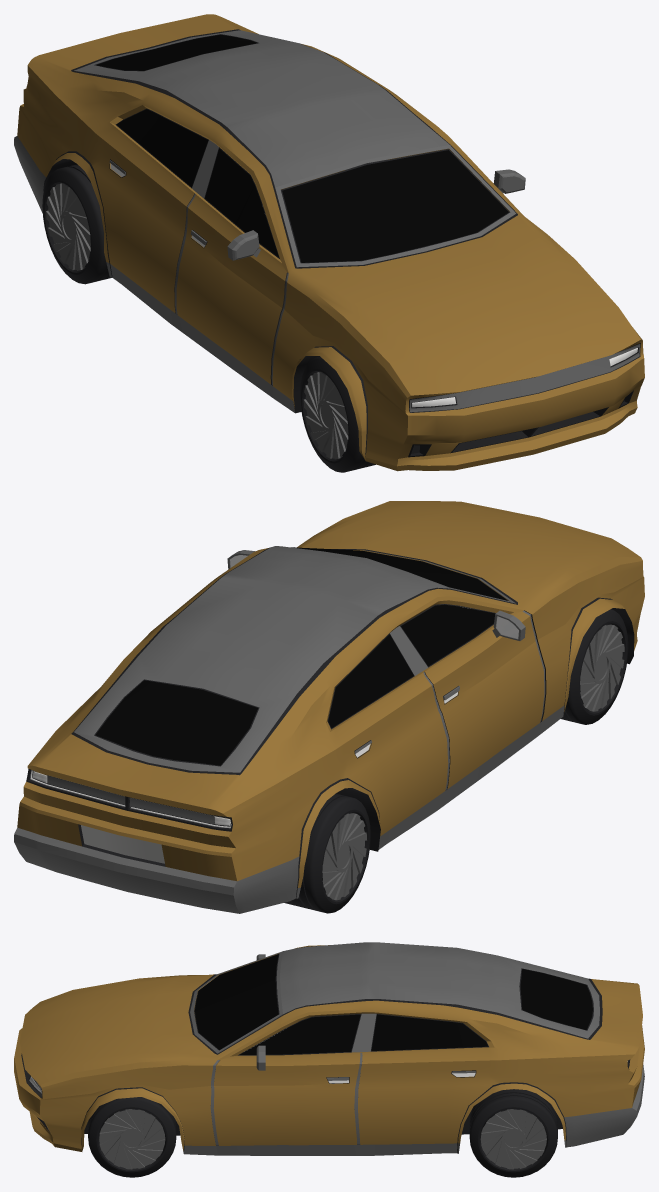
The model's file is MUSCLE CAR.fbx.
3 renders of one model, top to bottom at view 1: azimuth 30°, elevation 25°; view 2: azimuth 150°, elevation 25°; view 3: azimuth 270°, elevation 25°, orthographic. The views are drawn at different scales.
Visible parts, largest first — view 1: car; view 2: car; view 3: car.
Boxes of the visible parts, <box> form: car: <box>14,14,644,472</box>; car: <box>14,501,644,913</box>; car: <box>14,942,644,1177</box>.
Bounding box in the file's own units: 131 × 92.19 × 328.
